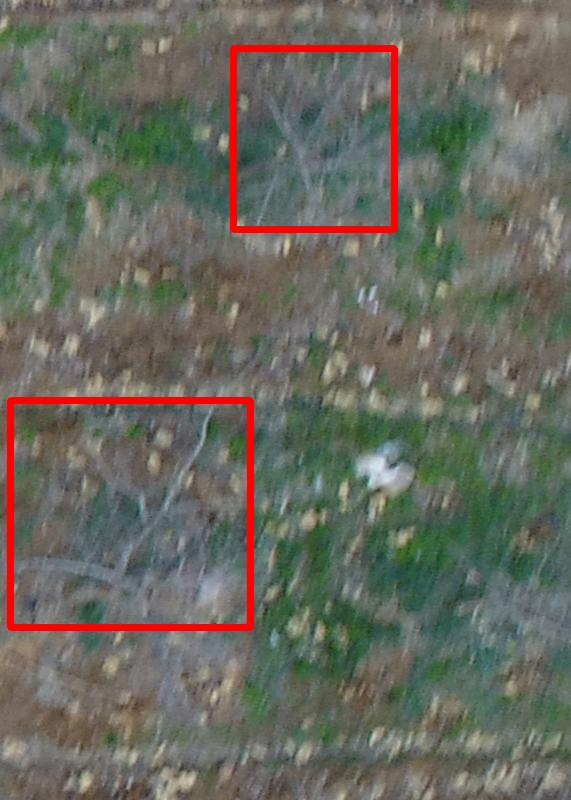apple: (10, 400, 250, 627), (233, 48, 394, 229)
